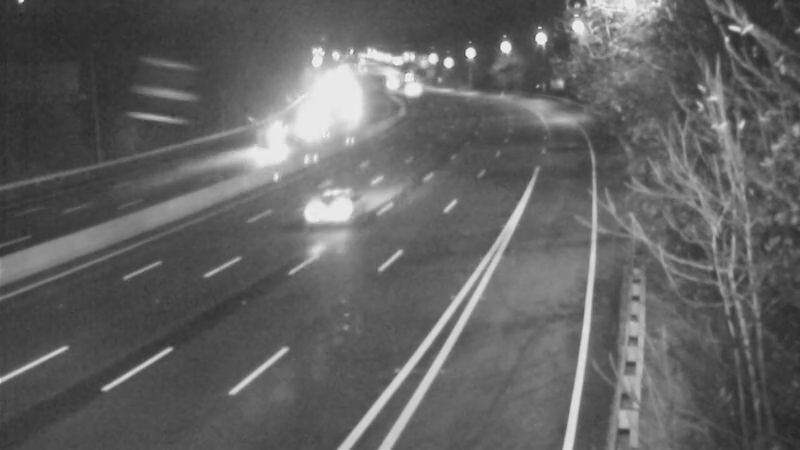vehicle: (284, 170, 364, 250), (386, 63, 436, 113), (240, 115, 290, 165), (284, 99, 334, 149)
